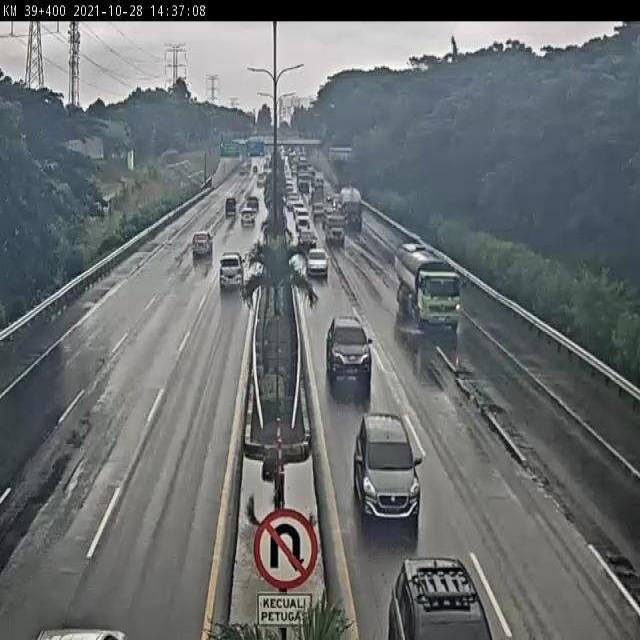car: (379, 532, 501, 640), (353, 407, 430, 529), (319, 312, 377, 401), (215, 252, 245, 296), (305, 248, 331, 281), (189, 230, 215, 262), (296, 225, 318, 252), (221, 193, 240, 220), (292, 203, 311, 229), (244, 194, 262, 218), (237, 208, 256, 229), (311, 197, 327, 220)
small truck: (394, 235, 465, 342), (336, 183, 365, 232)
